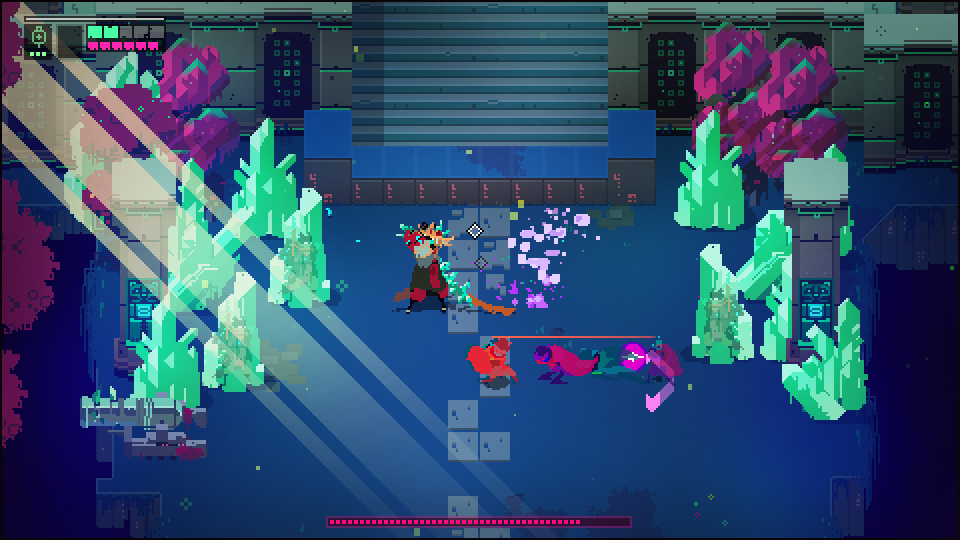hanged_man: (387, 217, 474, 321)
player: (466, 335, 514, 385), (620, 340, 646, 371)
